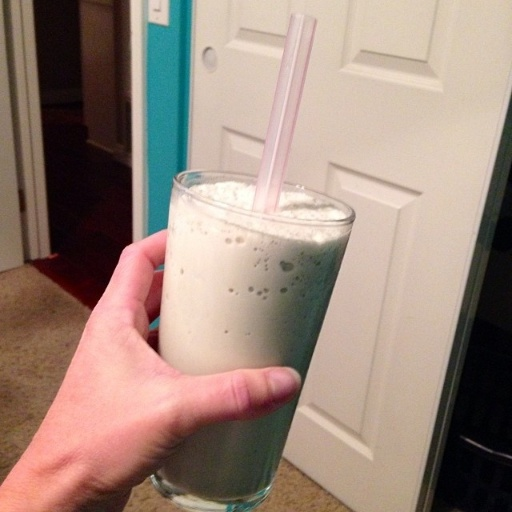hand: (14, 251, 304, 512)
